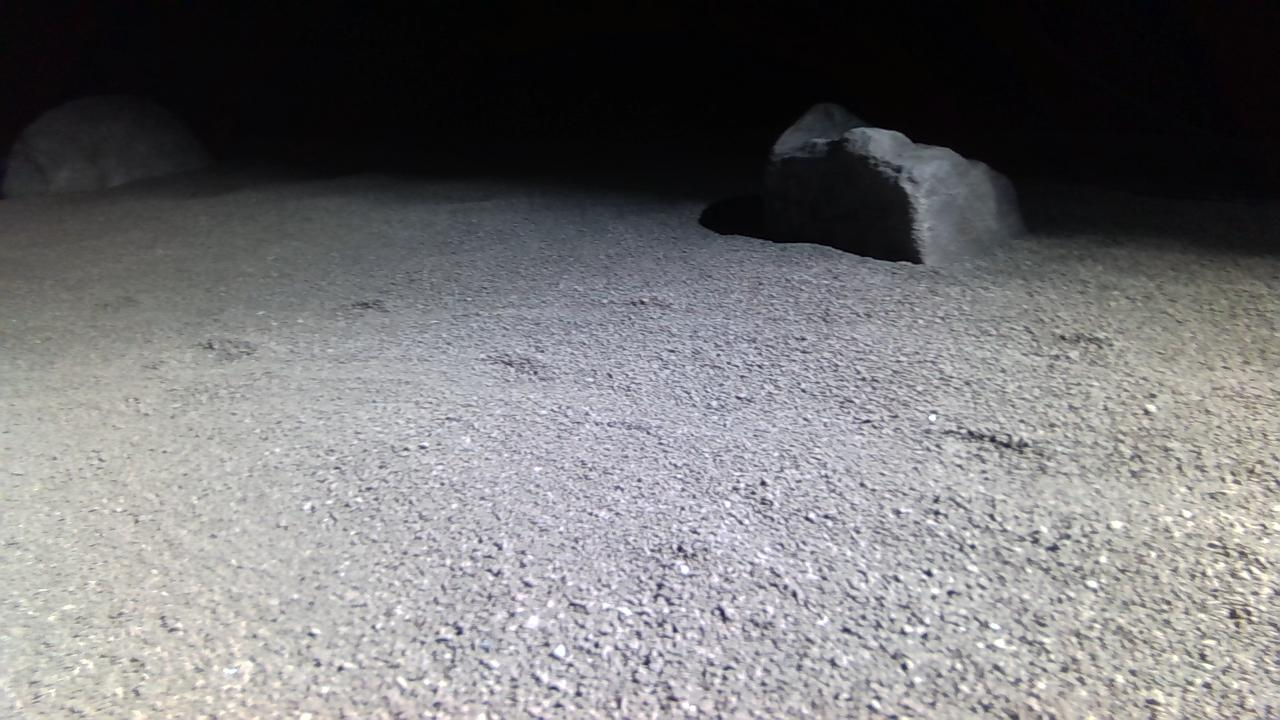rock: (765, 102, 1027, 264), (1, 95, 209, 195)
